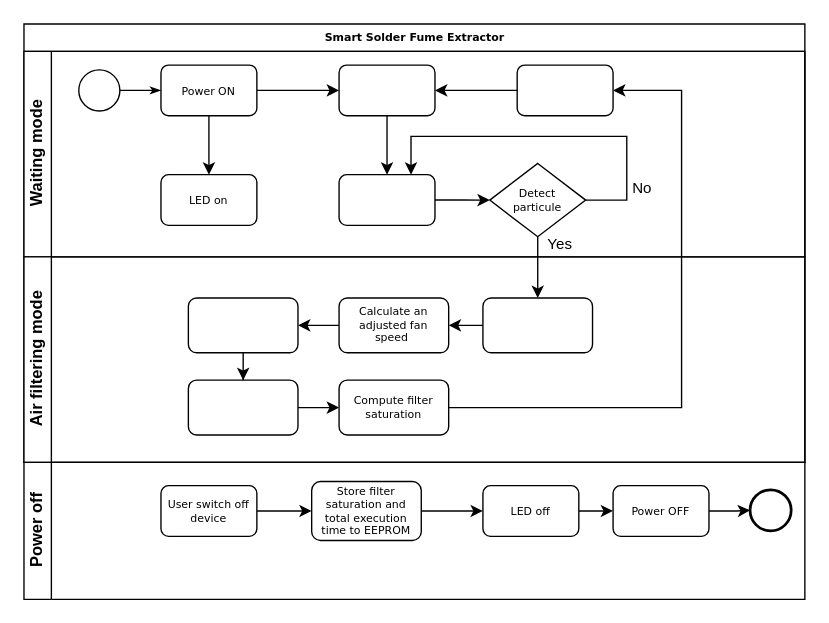
The diagram is 829 pixels wide and 623 high, and some of its shapes have lost their labels. Here are the shapes that lost their labels. From the top down, the centre of each, then its label:
the point at 386,90: Display current time and filter saturation
the point at 564,90: Memory
the point at 386,199: Air quality monitoring
the point at 242,325: Activate the fan using PWM
the point at 537,325: Convert signal to particule concentration range
the point at 242,407: Record the execution time
